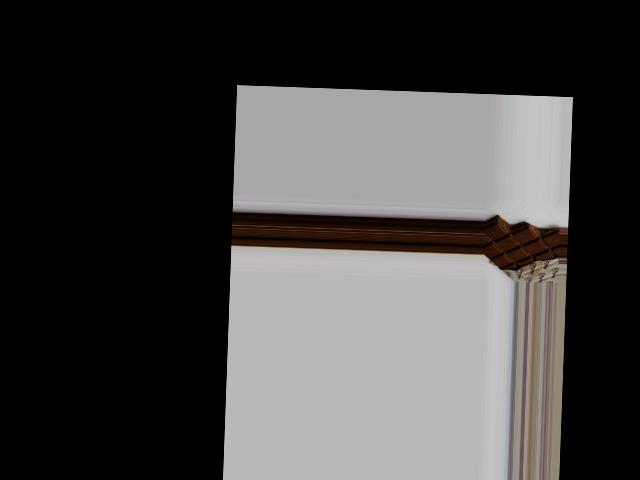chocolate: (484, 220, 561, 282)
